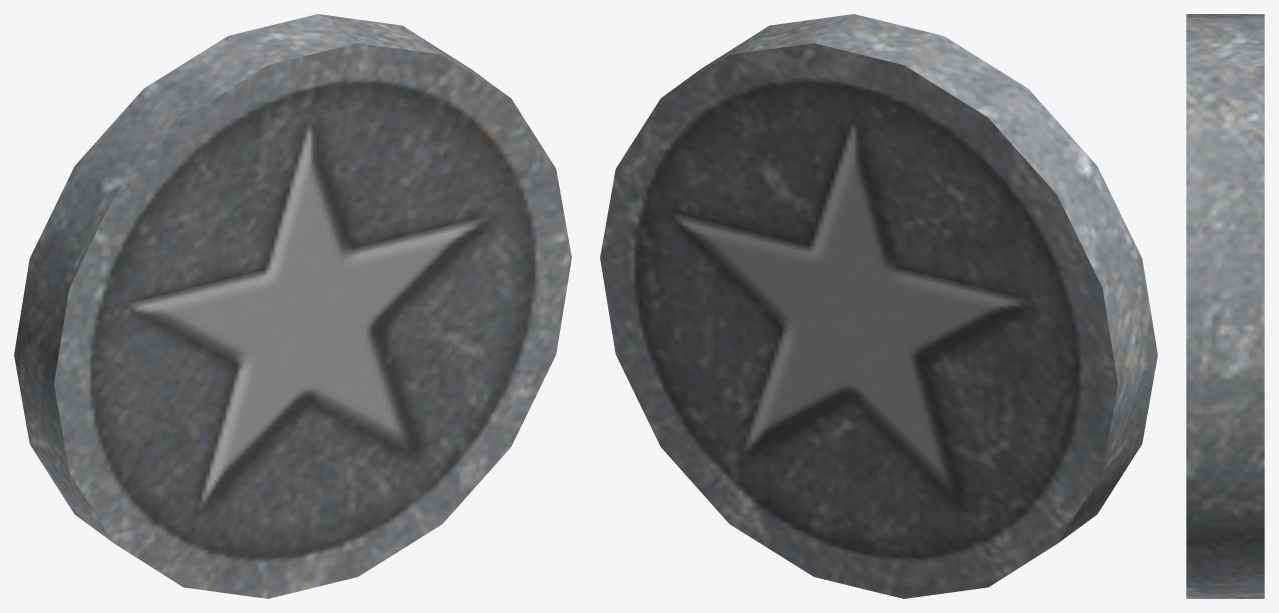
Rendered from Coin.fbx.
3 renders of one model, left to right at view 1: azimuth 30°, elevation 25°; view 2: azimuth 150°, elevation 25°; view 3: azimuth 270°, elevation 25°, orthographic.
Parts seen in each view (by area): view 1: Coin; view 2: Coin; view 3: Coin.
Boxes of the visible parts, bbox=[...] form: Coin: bbox=[14, 14, 571, 598]; Coin: bbox=[600, 14, 1157, 598]; Coin: bbox=[1186, 14, 1264, 598].
Bounding box in the file's own units: 199 × 196 × 26.53.
1 material, 1 textured.
